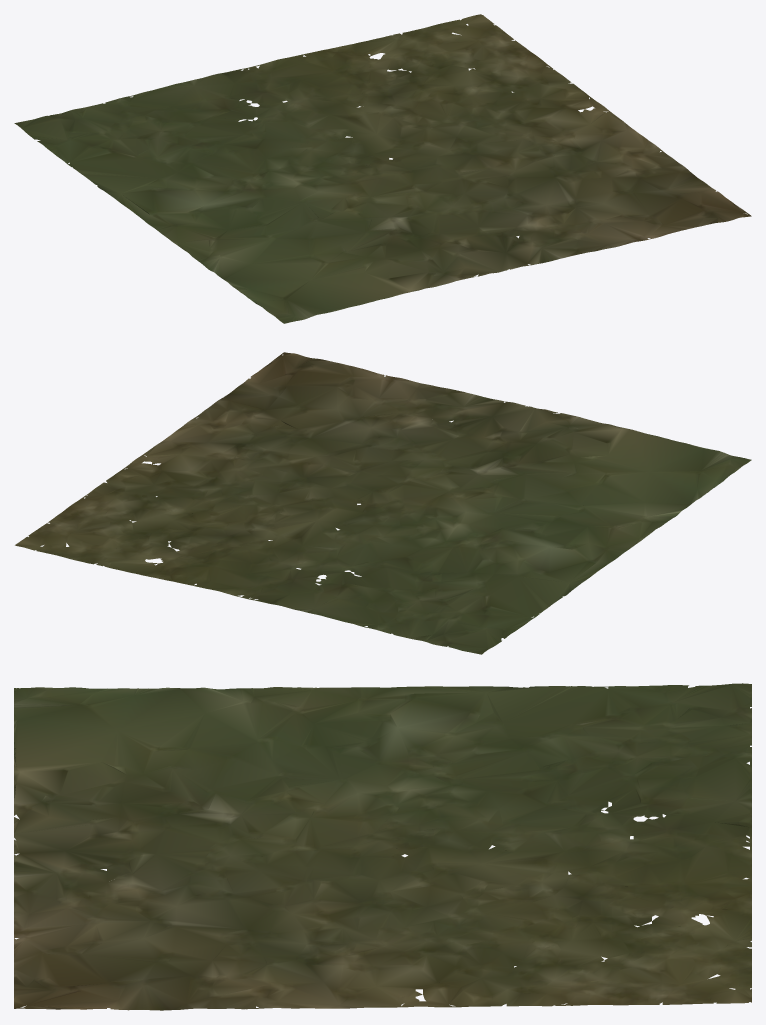
File: coarse.glb
3 renders of one model, top to bottom at view 1: azimuth 30°, elevation 25°; view 2: azimuth 150°, elevation 25°; view 3: azimuth 270°, elevation 25°, orthographic. The views are drawn at different scales.
Size of the model in its own units: 3.6 by 0.082 by 3.6.
